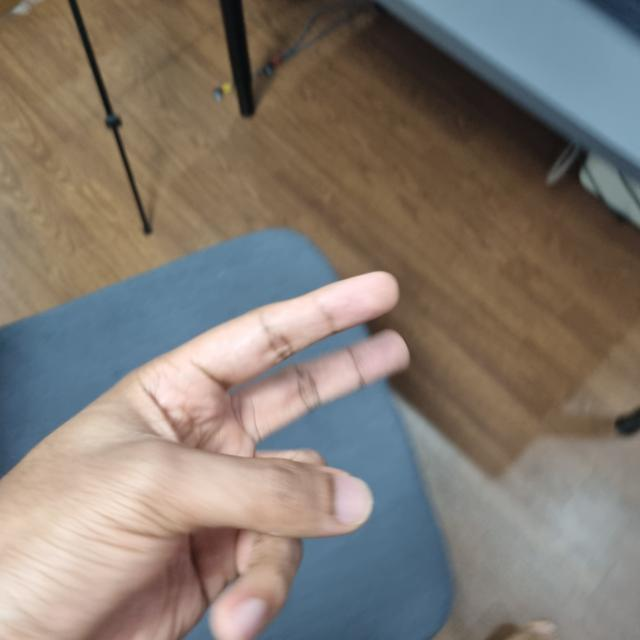Scissors: (0, 274, 405, 639)
